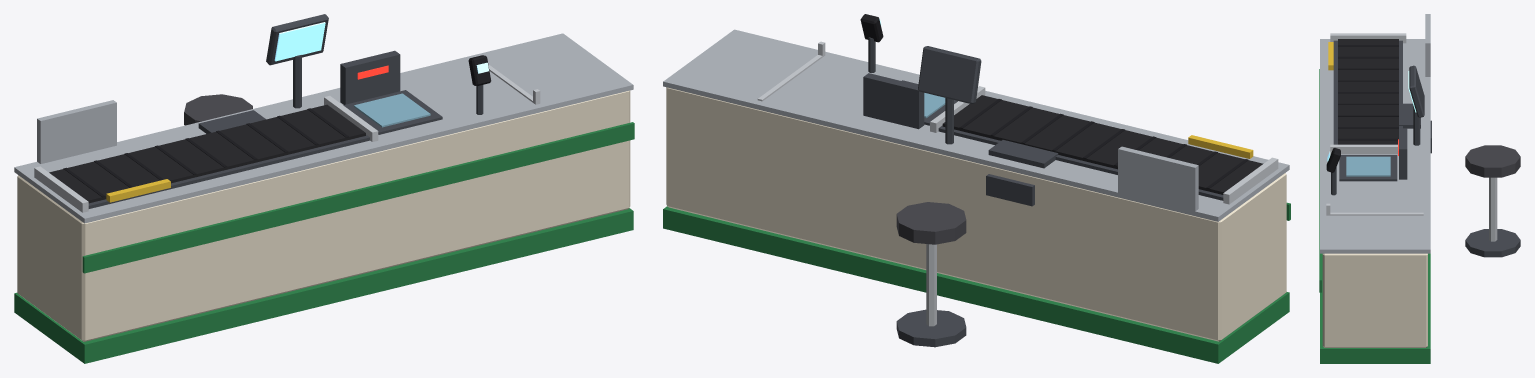
The model's file is Checkout_Lane_Conveyor_Market.glb.
3 renders of one model, left to right at view 1: azimuth 30°, elevation 25°; view 2: azimuth 150°, elevation 25°; view 3: azimuth 270°, elevation 25°, orthographic. The views are drawn at different scales.
Parts seen in each view (by area): view 1: Checkout_Lane_Conveyor_Market, Checkout_Lane_Conveyor_Market_Belt; view 2: Checkout_Lane_Conveyor_Market, Checkout_Lane_Conveyor_Market_Belt; view 3: Checkout_Lane_Conveyor_Market, Checkout_Lane_Conveyor_Market_Belt.
Part boxes in pixels (x1,y1,x2,y2): Checkout_Lane_Conveyor_Market: (14, 14, 634, 363); Checkout_Lane_Conveyor_Market_Belt: (49, 104, 365, 203); Checkout_Lane_Conveyor_Market: (663, 14, 1290, 363); Checkout_Lane_Conveyor_Market_Belt: (942, 95, 1263, 194); Checkout_Lane_Conveyor_Market: (1319, 14, 1520, 363); Checkout_Lane_Conveyor_Market_Belt: (1338, 39, 1398, 144).
Bounding box in the file's own units: 3.61 × 1.46 × 1.46.
Materials: 1 (1 with a texture image).
